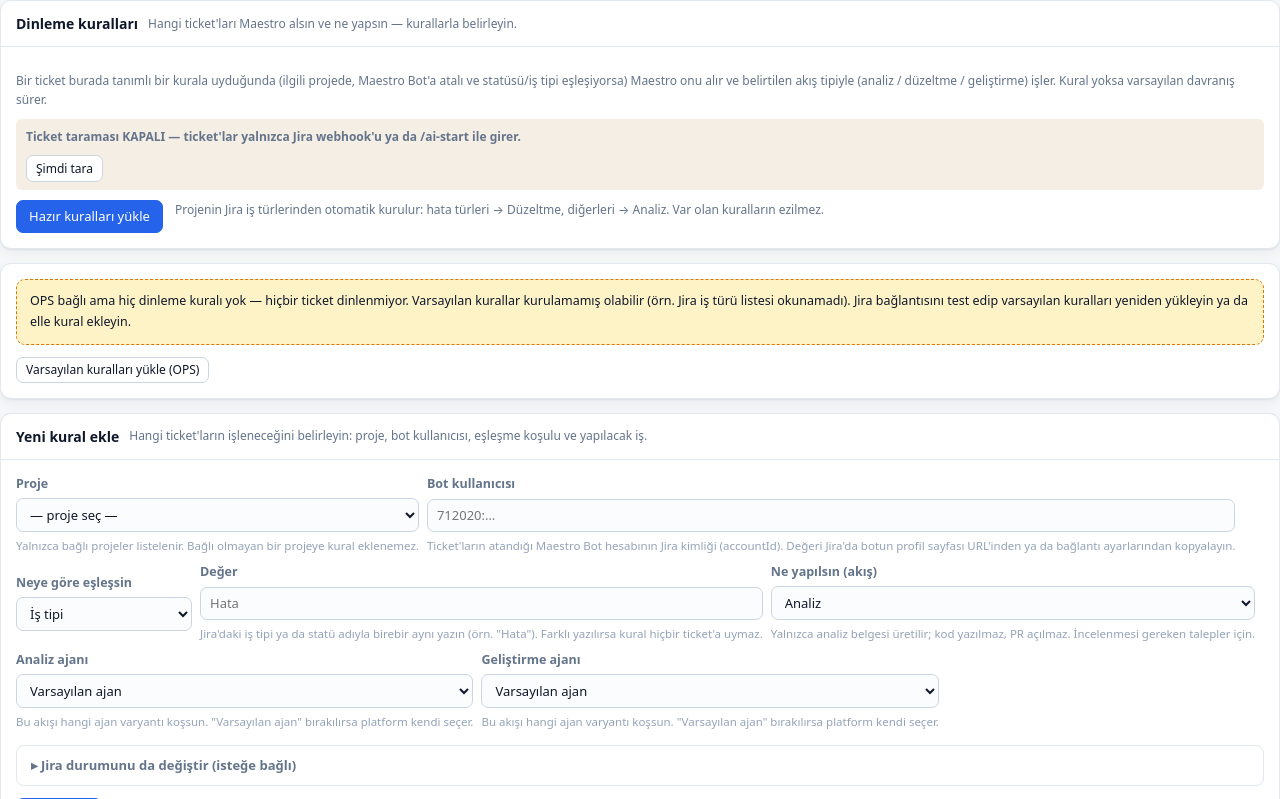
Test case: ListeningScreen › shows the named 409 (no Jira connection) as an actionable Turkish message
The image size is (1280, 799).
Expected: the heading "Yeni kural ekle" is shown, [16,426,119,446]
Click the button "Hazır kuralları yükle".
click(89, 217)  # box [16,200,163,233]
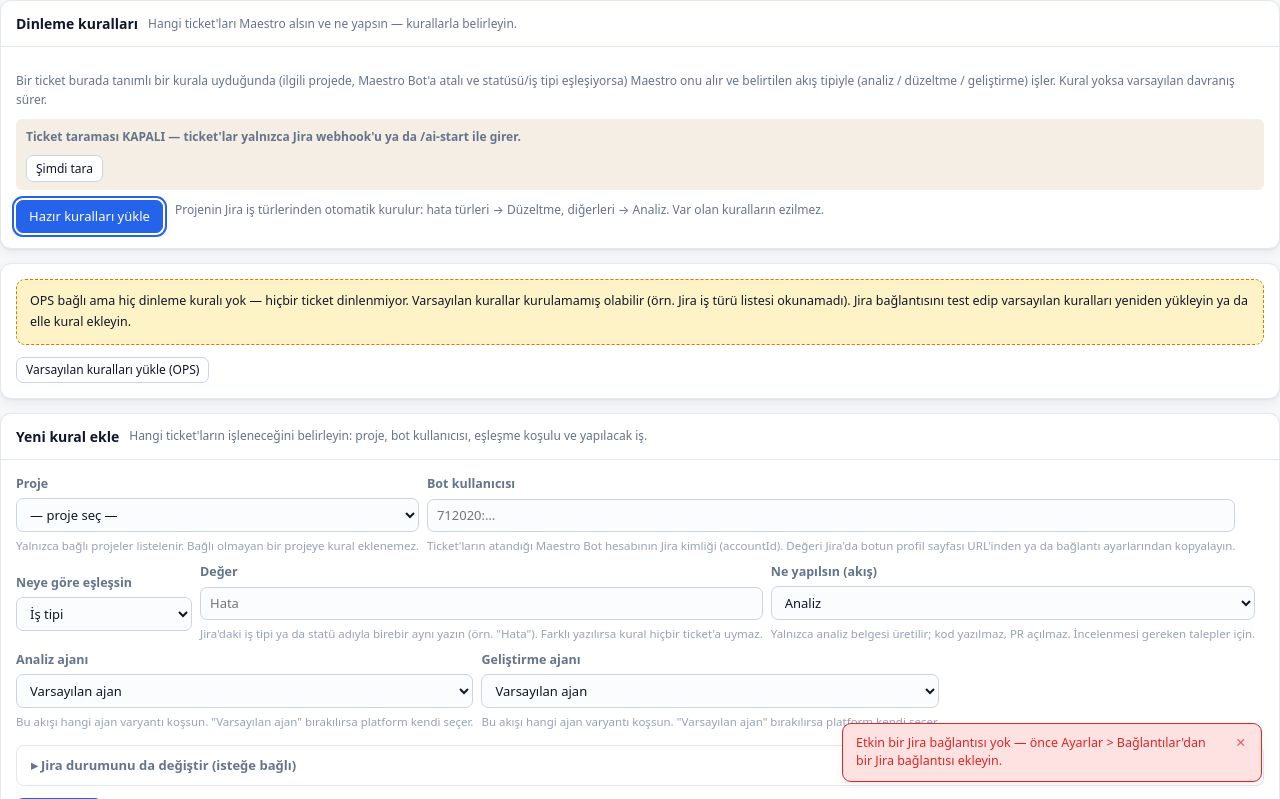
Expected: the text "Etkin bir Jira bağlantısı yok" is shown, [856,734,1206,769]
